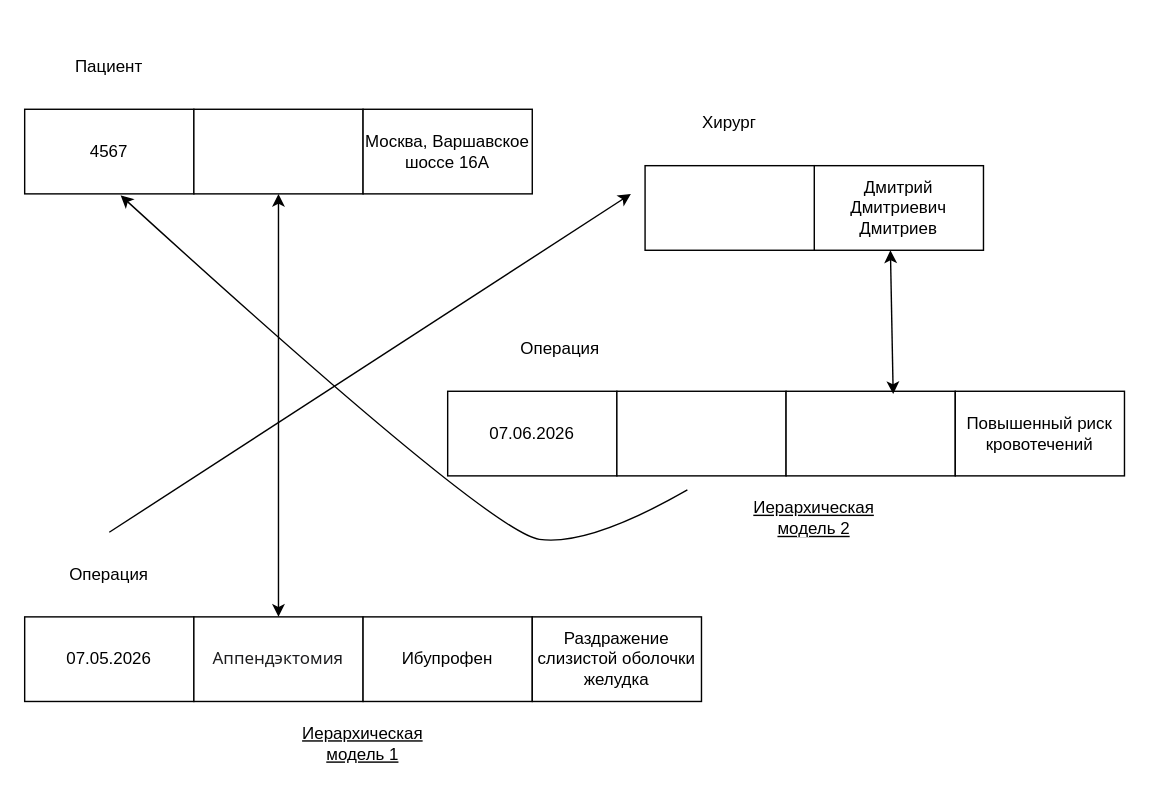
Some shapes in this 1149 by 811 pixel diagram are drawn without their labels. The shapes that lost their labels are listed below. From the top down, each one's box as (x1, y1, x2, y2) in pixels, then its label:
(192, 108, 363, 194): Иван Иванович Иванов
(644, 164, 814, 250): RU 2 845 621 С1
(615, 390, 786, 476): Эндопротезирование тазобедренного сустава
(785, 390, 955, 476): Ривароксабан
